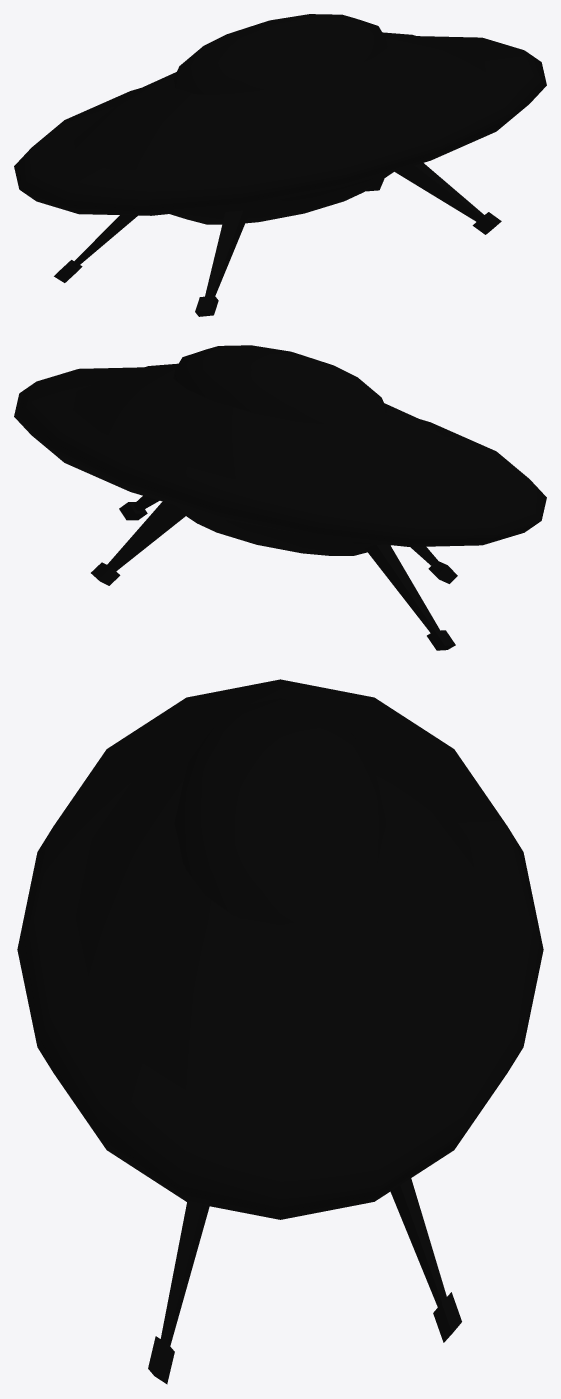
File: Boat.glb
3 renders of one model, top to bottom at view 1: azimuth 30°, elevation 25°; view 2: azimuth 150°, elevation 25°; view 3: azimuth 270°, elevation 25°, orthographic. The views are drawn at different scales.
Parts seen in each view (by area): view 1: Mesh.008; view 2: Mesh.008; view 3: Mesh.008.
Part boxes in pixels (left/top/right/bottom): Mesh.008: left=14, top=14, right=546, bottom=316; Mesh.008: left=14, top=345, right=546, bottom=650; Mesh.008: left=17, top=679, right=543, bottom=1384.
Size of the model in its own units: 5.28 by 2.22 by 2.3.
Materials: 1 (1 with a texture image).
